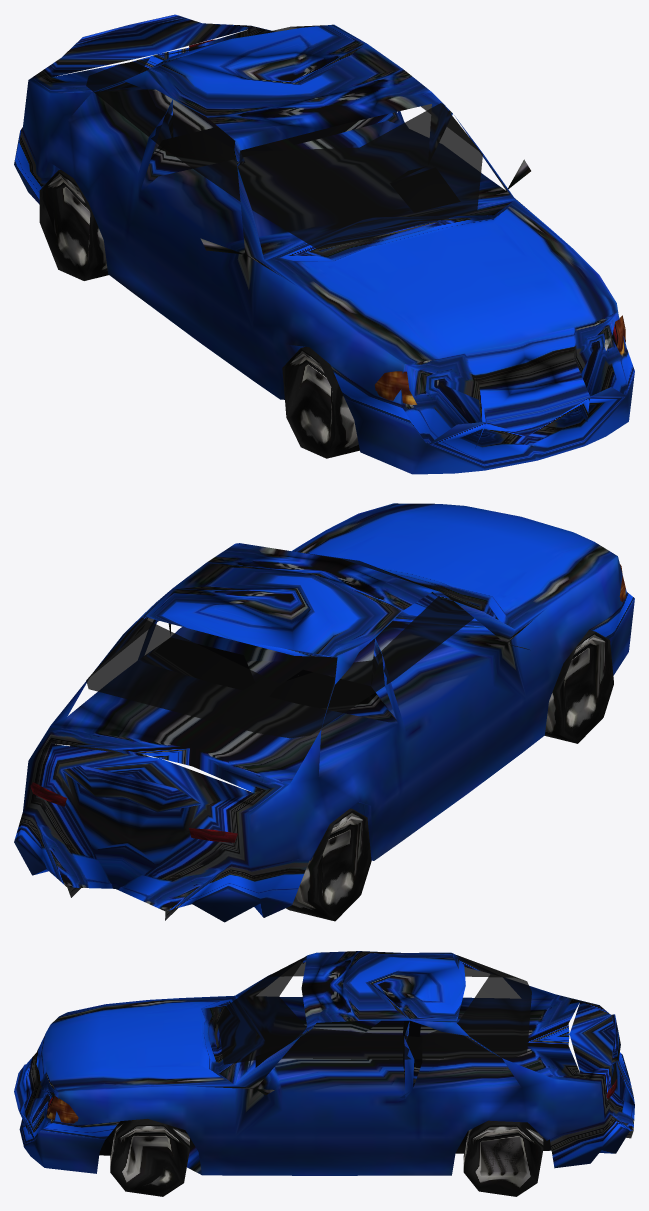
The model's file is coupe_far.glb.
3 views of the same model, one above another, from view 1: azimuth 30°, elevation 25°; view 2: azimuth 150°, elevation 25°; view 3: azimuth 270°, elevation 25° (orthographic). The views are drawn at different scales.
Visible parts, largest first — view 1: body, wheel_fr, wheel_rr; view 2: body, wheel_rr, wheel_fr; view 3: body, wheel_fl, wheel_rl.
Boxes of the visible parts, bbox=[...] form: body: bbox=[14, 14, 634, 474]; wheel_fr: bbox=[282, 346, 359, 458]; wheel_rr: bbox=[39, 170, 108, 280]; body: bbox=[14, 503, 634, 922]; wheel_rr: bbox=[286, 808, 371, 921]; wheel_fr: bbox=[544, 630, 613, 743]; body: bbox=[14, 951, 634, 1175]; wheel_fl: bbox=[110, 1119, 189, 1196]; wheel_rl: bbox=[463, 1120, 543, 1196].
Bounding box in the file's own units: 1.98 × 1.33 × 4.5.
Materials: 4 (3 with a texture image).
